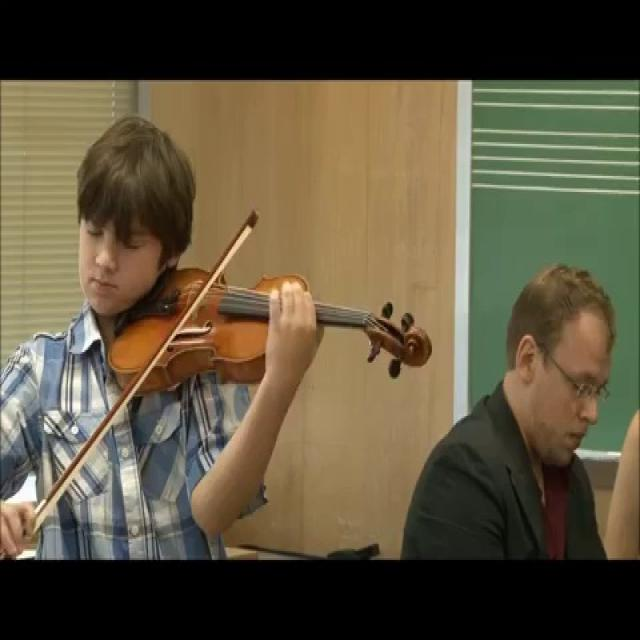Violin: (110, 259, 432, 389)
